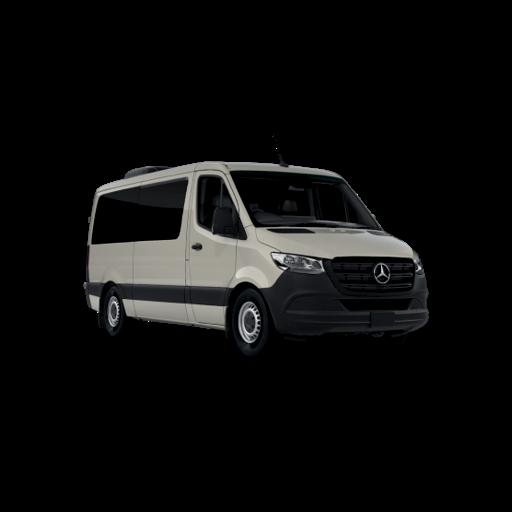van: (87, 162, 429, 355)
